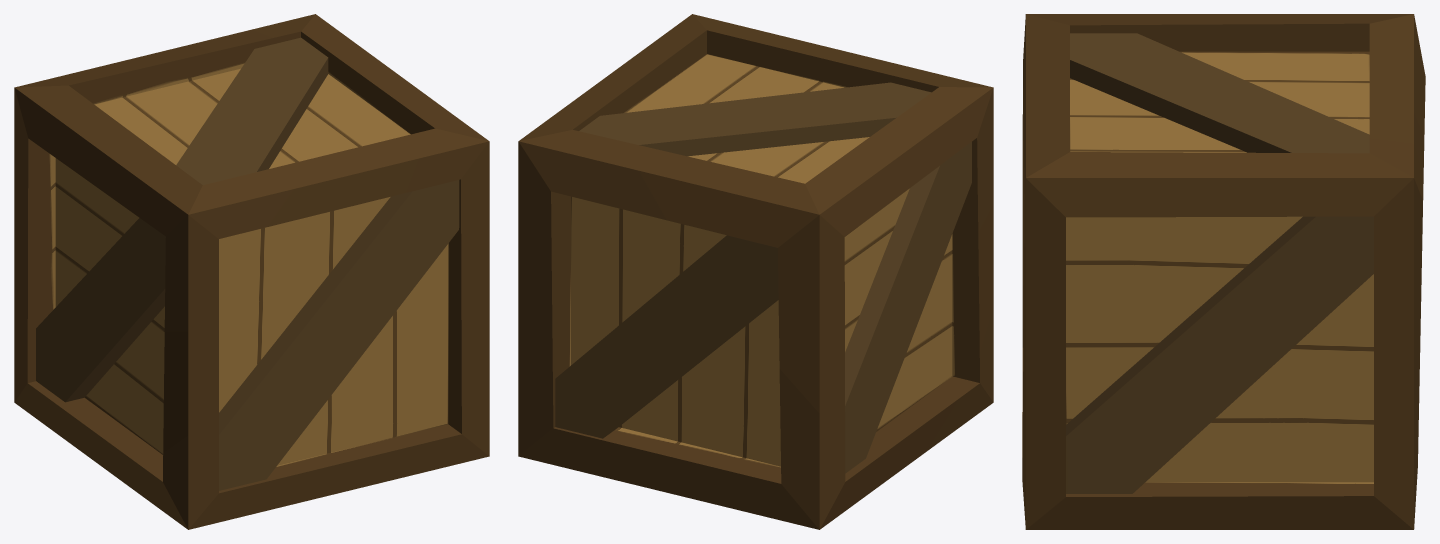
Rendered from intro_prop(crate_broken)_01.FBX.
3 views of the same model, side by side, from view 1: azimuth 30°, elevation 25°; view 2: azimuth 150°, elevation 25°; view 3: azimuth 270°, elevation 25° (orthographic). The views are drawn at different scales.
Parts seen in each view (by area): view 1: crate_broken_3, crate_broken_1, crate_broken_4, crate_broken_2; view 2: crate_broken_3, crate_broken_4, crate_broken_2, crate_broken_1; view 3: crate_broken_2, crate_broken_1, crate_broken_4, crate_broken_3.
Boxes of the visible parts, left/top/right/bottom form: crate_broken_3: left=14, top=29, right=419, bottom=481; crate_broken_1: left=122, top=203, right=489, bottom=529; crate_broken_4: left=14, top=43, right=293, bottom=331; crate_broken_2: left=252, top=14, right=489, bottom=303; crate_broken_3: left=582, top=31, right=993, bottom=529; crate_broken_4: left=639, top=61, right=993, bottom=413; crate_broken_2: left=518, top=14, right=761, bottom=506; crate_broken_1: left=518, top=308, right=993, bottom=458; crate_broken_2: left=1024, top=134, right=1423, bottom=524; crate_broken_1: left=1022, top=247, right=1414, bottom=529; crate_broken_4: left=1022, top=14, right=1425, bottom=136; crate_broken_3: left=1022, top=71, right=1424, bottom=257.
Bounding box in the file's own units: 41.03 × 40.87 × 40.9.
